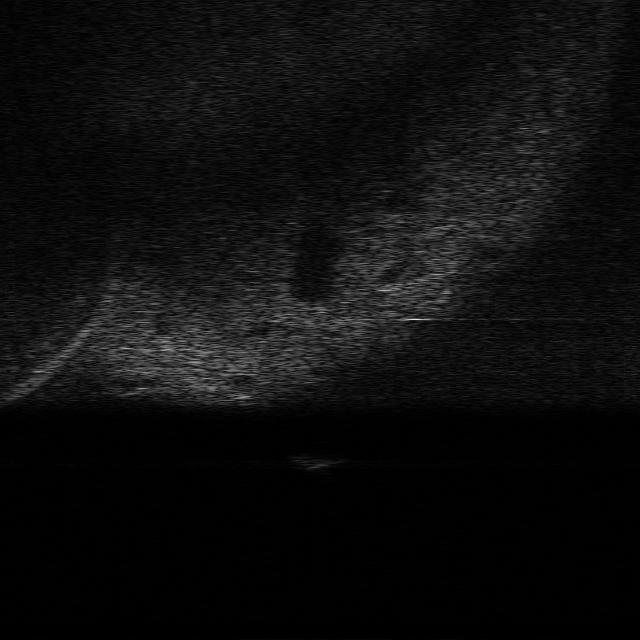cube: (288, 452, 348, 470)
